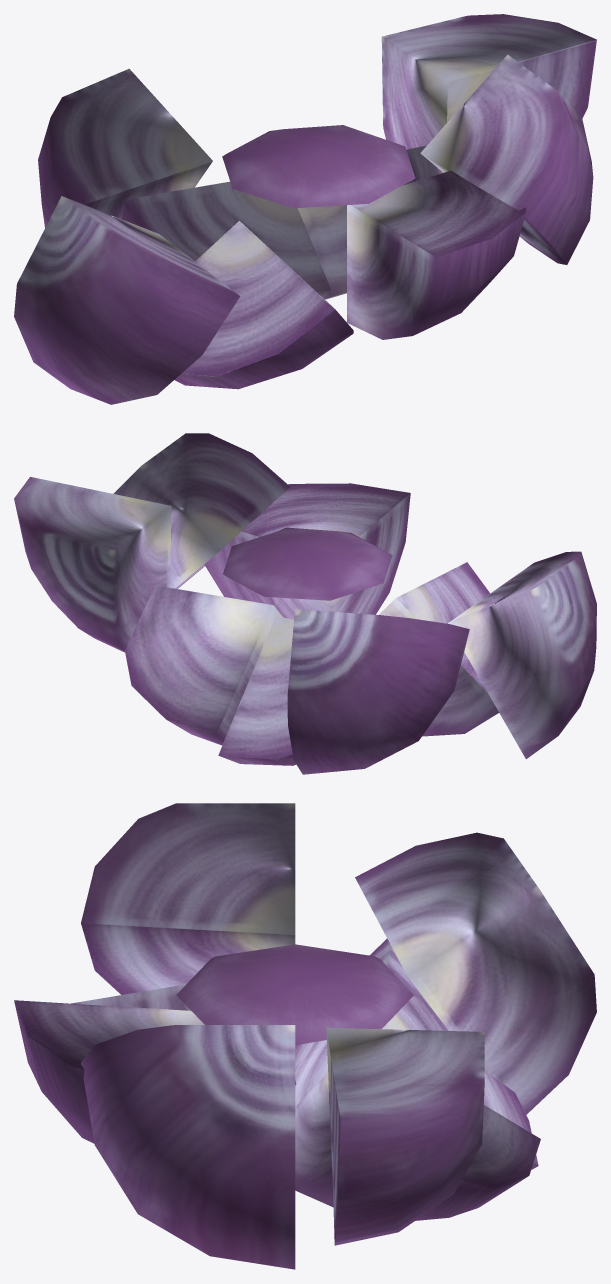
Rendered from OnionSliced.fbx.
3 renders of one model, top to bottom at view 1: azimuth 30°, elevation 25°; view 2: azimuth 150°, elevation 25°; view 3: azimuth 270°, elevation 25°, orthographic. The views are drawn at different scales.
Parts seen in each view (by area): view 1: polySurface18, polySurface13, polySurface12, polySurface14, polySurface16, polySurface19, onion_top_mesh1, polySurface17, polySurface15; view 2: polySurface16, polySurface18, polySurface14, polySurface15, polySurface12, polySurface13, onion_top_mesh1, polySurface17, polySurface19; view 3: polySurface12, polySurface16, polySurface18, polySurface14, onion_top_mesh1, polySurface13, polySurface15, polySurface17, polySurface19.
Part boxes in pixels (box(x1,y1,x2,y2)): polySurface18: box(14, 196, 240, 404); polySurface13: box(347, 170, 526, 339); polySurface12: box(420, 54, 593, 264); polySurface14: box(381, 14, 596, 173); polySurface16: box(38, 68, 212, 227); polySurface19: box(174, 221, 353, 389); onion_top_mesh1: box(222, 125, 415, 208); polySurface17: box(121, 181, 331, 296); polySurface15: box(297, 145, 438, 299); polySurface16: box(287, 609, 469, 774); polySurface18: box(448, 551, 596, 759); polySurface14: box(14, 477, 171, 652); polySurface15: box(125, 585, 282, 745); polySurface12: box(113, 433, 289, 588); polySurface13: box(204, 483, 410, 619); onion_top_mesh1: box(223, 527, 392, 600); polySurface17: box(218, 616, 296, 765); polySurface19: box(379, 562, 498, 736); polySurface12: box(81, 1025, 295, 1269); polySurface16: box(355, 832, 596, 1114); polySurface18: box(81, 803, 295, 994); polySurface14: box(326, 1027, 484, 1245); onion_top_mesh1: box(176, 944, 413, 1045); polySurface13: box(14, 1000, 204, 1143); polySurface15: box(295, 1072, 540, 1220); polySurface17: box(295, 938, 538, 1169); polySurface19: box(71, 984, 296, 1084).
Bounding box in the file's own units: 0.648 × 0.2507 × 0.454.
Materials: 1 (1 with a texture image).
